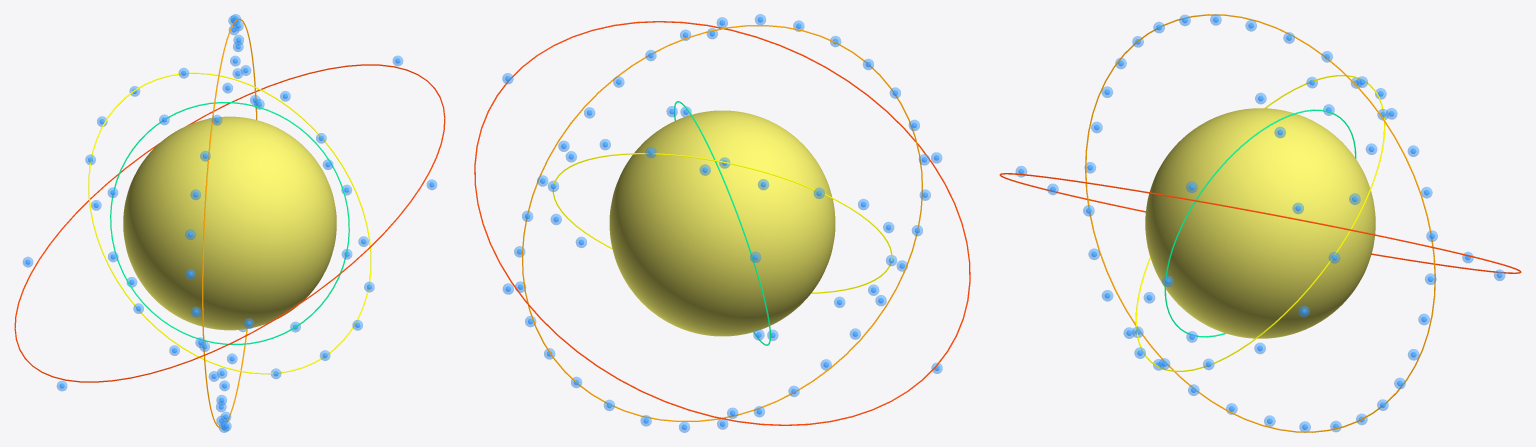
3 renders of one model, left to right at view 1: azimuth 30°, elevation 25°; view 2: azimuth 150°, elevation 25°; view 3: azimuth 270°, elevation 25°, orthographic. The views are drawn at different scales.
Parts seen in each view (by area): view 1: Dy, object 126, object 24, object 7, object 61; view 2: Dy, object 126, object 61, object 24, object 7; view 3: Dy, object 61, object 126, object 24, object 7.
Part boxes in pixels (x1,y1,x2,y2): Dy: [123, 116, 336, 330]; object 126: [14, 64, 445, 382]; object 24: [88, 72, 371, 374]; object 7: [110, 101, 349, 345]; object 61: [202, 18, 257, 428]; Dy: [609, 110, 835, 336]; object 126: [474, 21, 970, 425]; object 61: [522, 25, 922, 421]; object 24: [552, 153, 892, 293]; object 7: [674, 101, 770, 345]; Dy: [1145, 108, 1375, 338]; object 61: [1085, 14, 1435, 432]; object 126: [999, 173, 1521, 273]; object 24: [1135, 75, 1385, 371]; object 7: [1164, 109, 1356, 337].
Size of the model in its own units: 6.44 by 6.16 by 7.1.
